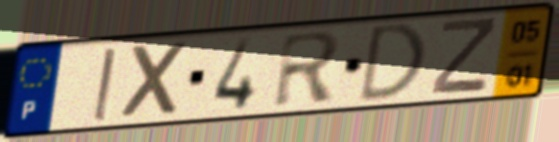4: (209, 34, 263, 113)
D: (355, 20, 430, 106)
I: (90, 45, 119, 124)
R: (270, 28, 345, 111)
X: (119, 38, 194, 124)
Z: (428, 14, 501, 96)
